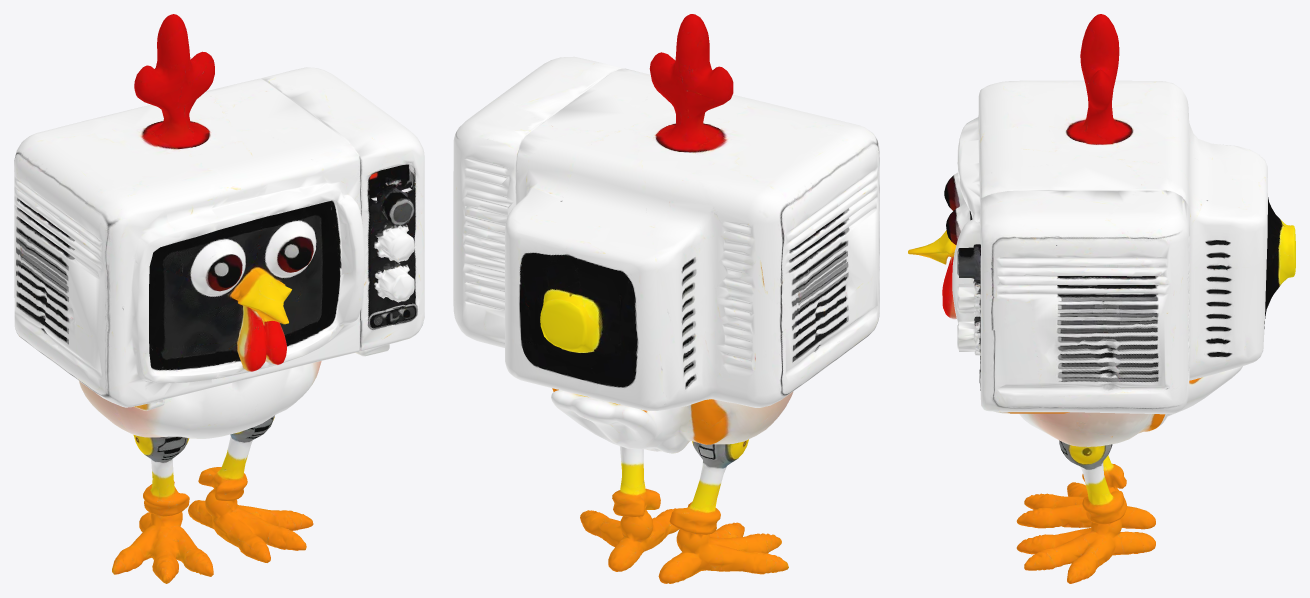
The model's file is chicken-tv__rare__tech__trickster.glb.
3 renders of one model, left to right at view 1: azimuth 30°, elevation 25°; view 2: azimuth 150°, elevation 25°; view 3: azimuth 270°, elevation 25°, orthographic. The views are drawn at different scales.
Size of the model in its own units: 1.22 by 1.9 by 1.3.
1 material, 1 textured.
